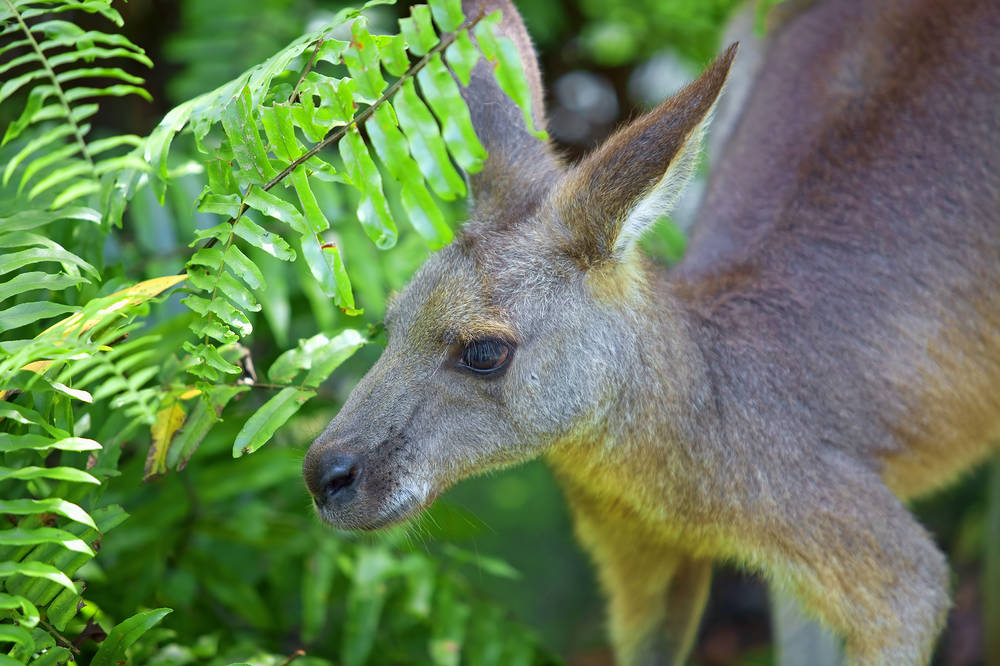kangaroo: (285, 2, 1000, 659)
